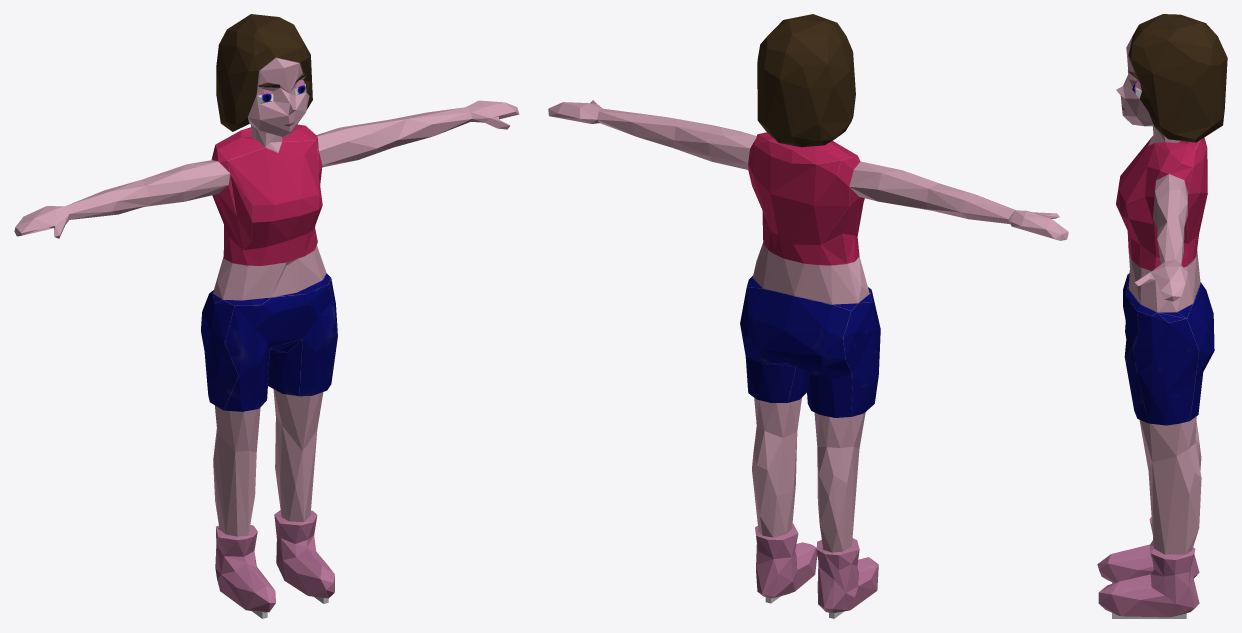
The model's file is nel7.fbx.
3 renders of one model, left to right at view 1: azimuth 30°, elevation 25°; view 2: azimuth 150°, elevation 25°; view 3: azimuth 270°, elevation 25°, orthographic. The views are drawn at different scales.
Visible parts, largest first — view 1: Nel; view 2: Nel; view 3: Nel, Schlittschuh.
Part boxes in pixels (<box>): Nel: <box>14,14,519,612</box>; Nel: <box>548,14,1068,612</box>; Nel: <box>1097,14,1227,617</box>; Schlittschuh: <box>1112,582,1186,618</box>.
Size of the model in its own units: 13148 by 14190 by 2882.
2 materials, 1 textured.
